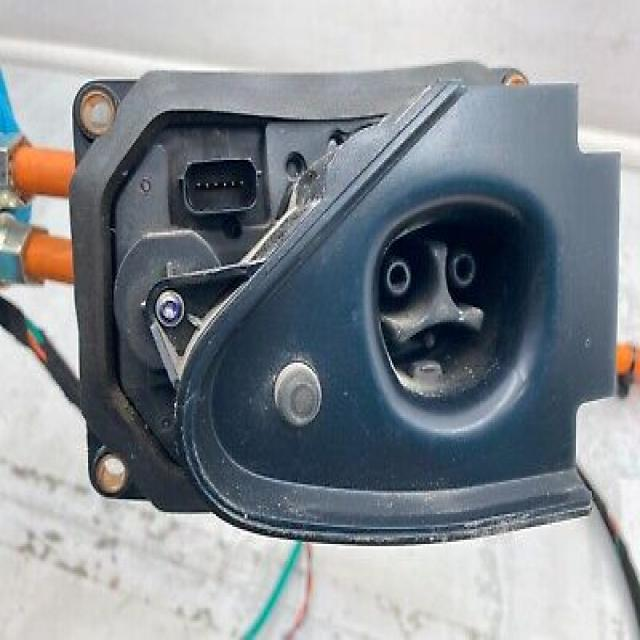Tesla Model-S-: (337, 178, 580, 451)
